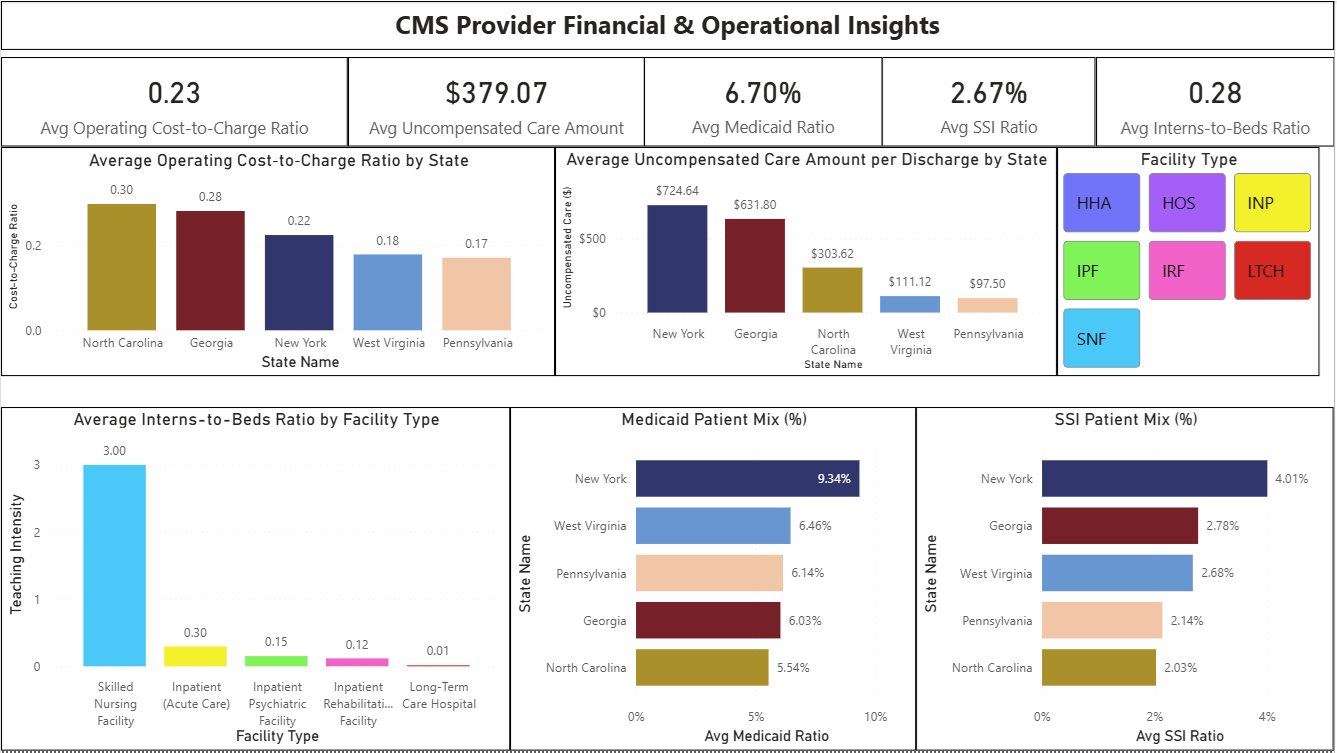

Layout of this report page (visuals, bound fields, positions):
{"tool":"powerbi","page":{"name":"Page 2","canvas":[1280,720],"ordinal":1},"visuals":[{"type":"textbox","box":[0,0,1280,47],"z":0},{"type":"card","fields":{"Values":["All_Measures.Avg Operating Cost-to-Charge Ratio"]},"box":[0,54,333,86],"z":1000},{"type":"card","fields":{"Values":["All_Measures.Avg SSI Ratio"]},"box":[846.2,54.1,205.2,85.8],"z":2000},{"type":"card","fields":{"Values":["All_Measures.Avg Uncompensated Care Amount"]},"box":[333,54,285,86],"z":3000},{"type":"card","fields":{"Values":["All_Measures.Avg Medicaid Ratio"]},"box":[617.6,54.1,228.6,85.8],"z":4000},{"type":"card","fields":{"Values":["All_Measures.Avg Interns-to-Beds Ratio"]},"box":[1051,54,229,86],"z":5000},{"type":"clusteredColumnChart","title":"Average Operating Cost‑to‑Charge Ratio by State","fields":{"Category":["State Refrence Data.State Name"],"Y":["All_Measures.Avg Operating Cost-to-Charge Ratio"]},"box":[0,140,532,220],"z":6000},{"type":"clusteredColumnChart","title":"Average Uncompensated Care Amount per Discharge by State","fields":{"Category":["State Refrence Data.State Name"],"Y":["All_Measures.Avg Uncompensated Care Amount"]},"box":[532,140,482,220],"z":7000},{"type":"clusteredColumnChart","title":"Average Interns-to-Beds Ratio by Facility Type","fields":{"Category":["Provider Type.Facility Type "],"Y":["All_Measures.Avg Interns-to-Beds Ratio"]},"box":[0,390,489,330],"z":8000},{"type":"clusteredBarChart","title":"SSI Patient Mix (%)","fields":{"Category":["State Refrence Data.State Name"],"Y":["All_Measures.Avg SSI Ratio"]},"box":[879,390,401,330],"z":9000},{"type":"advancedSlicerVisual","title":"Facility Type","fields":{"Values":["Provider Type.Abbreviation"]},"box":[1014,140,252,220],"z":10000},{"type":"clusteredBarChart","title":"Medicaid Patient Mix (%)","fields":{"Category":["State Refrence Data.State Name"],"Y":["All_Measures.Avg Medicaid Ratio"]},"box":[489,390,390,330],"z":11000}]}

Visuals, with their boxes in screenshot pixels (x1, y1, x2, y2), scaled from the page's 1280x720 canvas onto the 1337x753 screenshot:
textbox: detection(0, 0, 1336, 49)
card - All_Measures.Avg Operating Cost-to-Charge Ratio: detection(0, 56, 348, 146)
card - All_Measures.Avg SSI Ratio: detection(884, 57, 1098, 146)
card - All_Measures.Avg Uncompensated Care Amount: detection(348, 56, 646, 146)
card - All_Measures.Avg Medicaid Ratio: detection(645, 57, 884, 146)
card - All_Measures.Avg Interns-to-Beds Ratio: detection(1098, 56, 1336, 146)
"Average Operating Cost‑to‑Charge Ratio by State" clusteredColumnChart: detection(0, 146, 556, 376)
"Average Uncompensated Care Amount per Discharge by State" clusteredColumnChart: detection(556, 146, 1059, 376)
"Average Interns-to-Beds Ratio by Facility Type" clusteredColumnChart: detection(0, 408, 511, 752)
"SSI Patient Mix (%)" clusteredBarChart: detection(918, 408, 1336, 752)
"Facility Type" advancedSlicerVisual: detection(1059, 146, 1322, 376)
"Medicaid Patient Mix (%)" clusteredBarChart: detection(511, 408, 918, 752)
